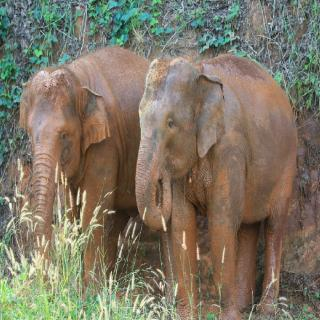Elephant: (136, 50, 301, 320), (20, 46, 156, 290)
